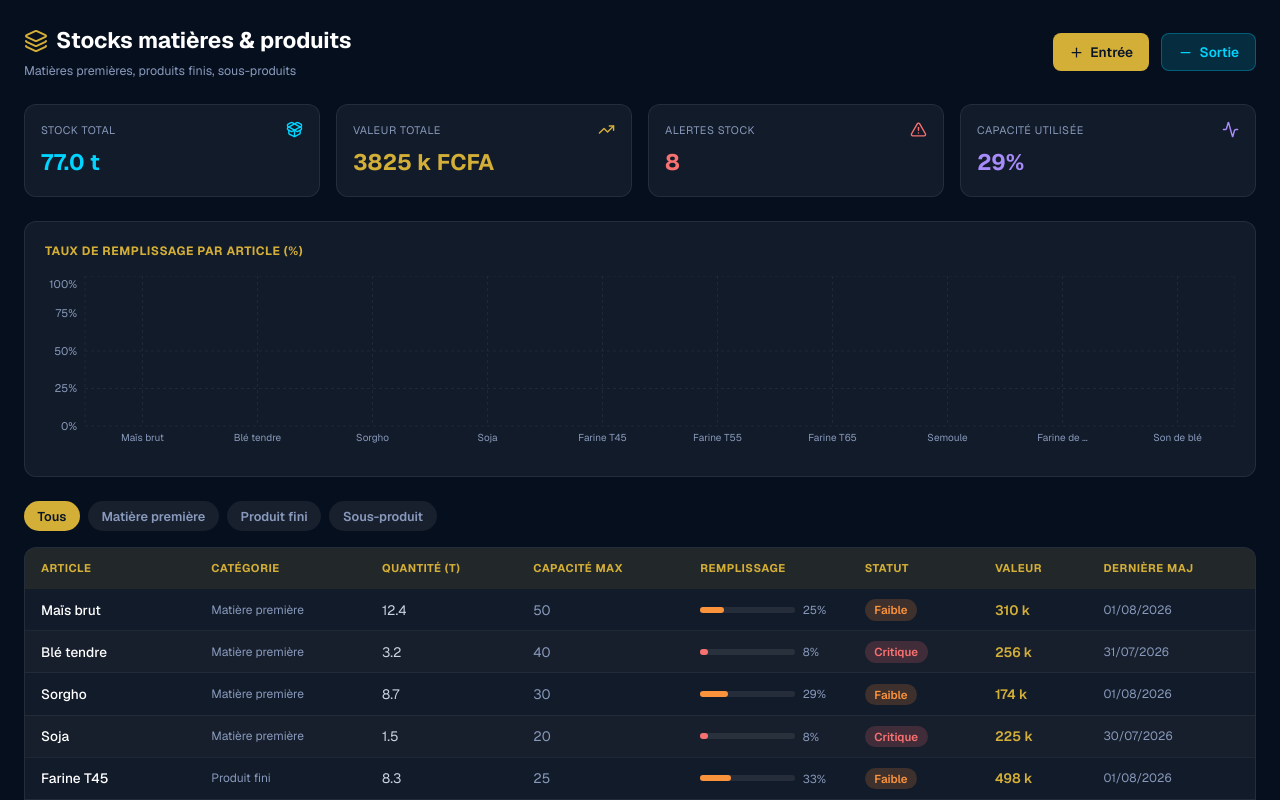
Scenario: StocksPage › ouvre le modal Entrée stock au clic sur le bouton
The image size is (1280, 800).
Expected: the heading "Entrée stock" is not shown
Click the button "Entrée": (1101, 52) top-left (1053, 33), bottom-right (1149, 71)
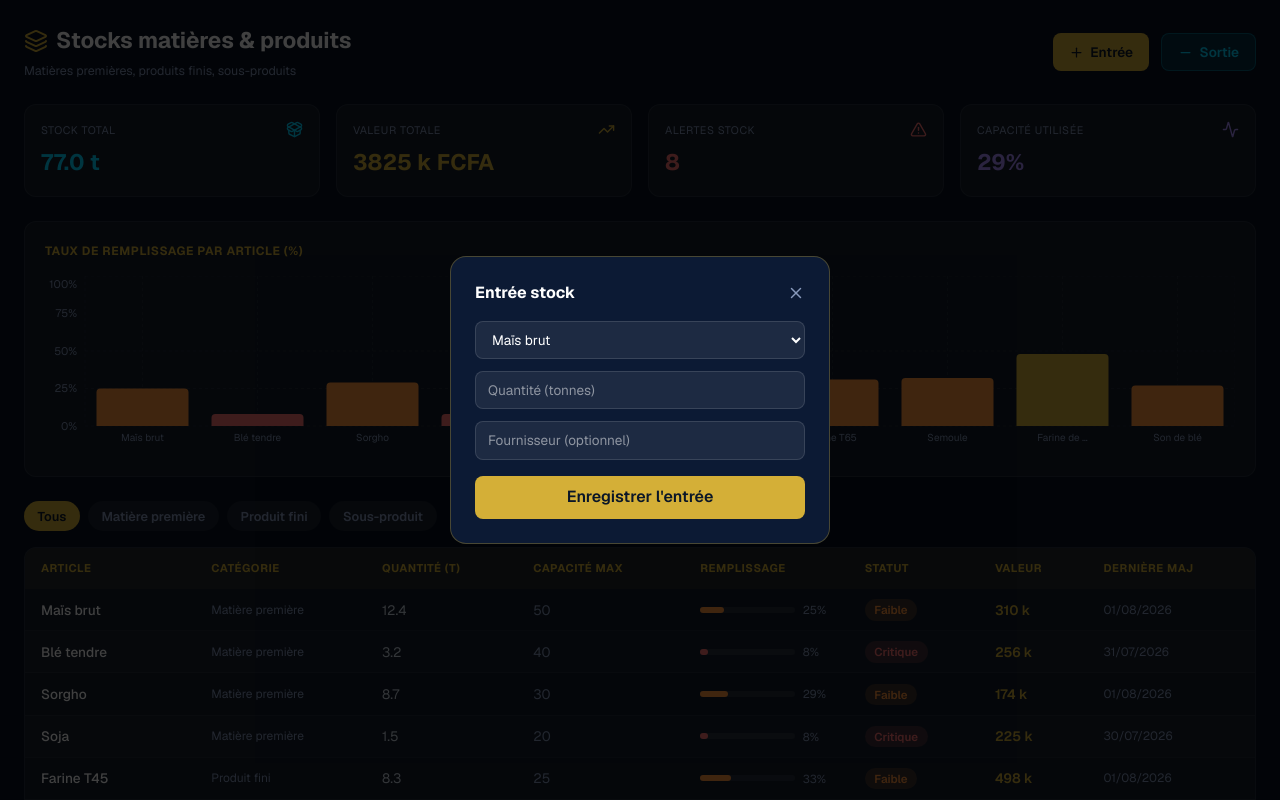
Now the heading "Entrée stock" is shown, box top-left (475, 281), bottom-right (576, 305)
